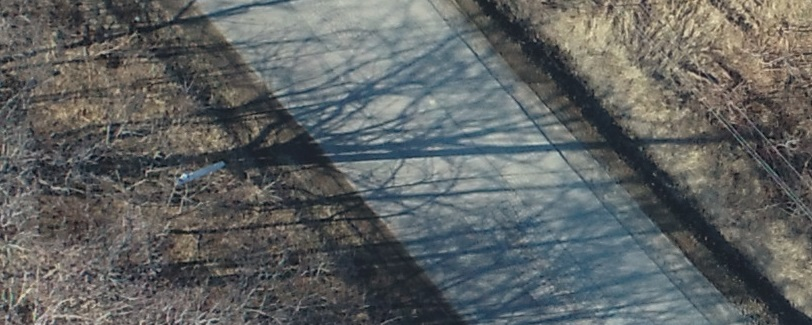opora: (170, 151, 328, 185)
